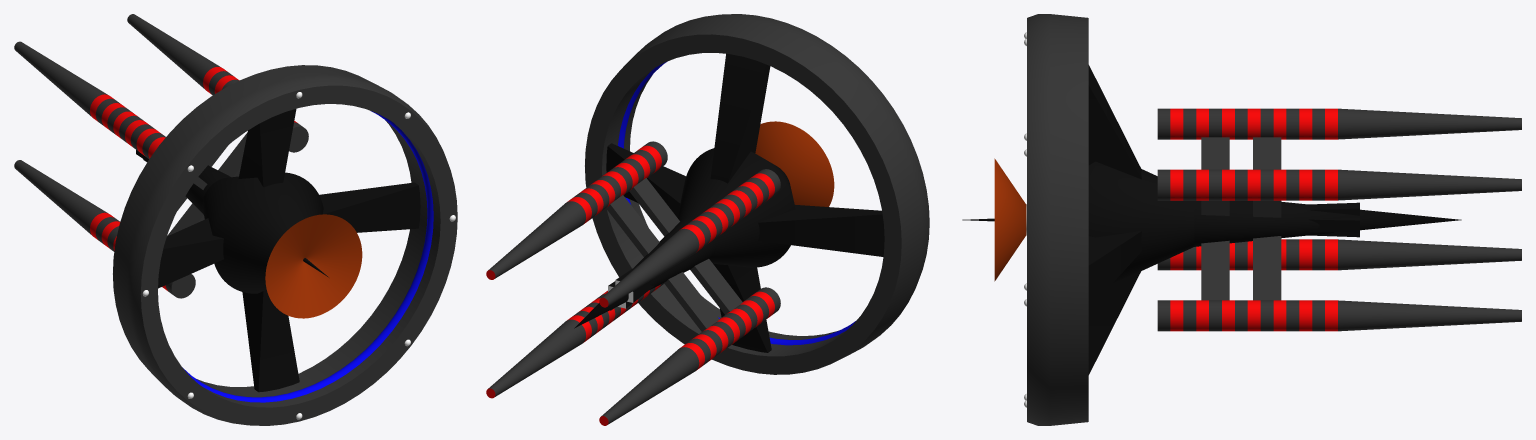
Rendered from NyProbe.FBX.
3 renders of one model, left to right at view 1: azimuth 30°, elevation 25°; view 2: azimuth 150°, elevation 25°; view 3: azimuth 270°, elevation 25°, orthographic. The views are drawn at different scales.
Visible parts, largest first — view 1: Engine, NyProbe, Radiators; view 2: Engine, NyProbe, Radiators; view 3: Radiators, Engine, NyProbe.
Part boxes in pixels (x1,y1,x2,y2): Engine: (113, 65, 457, 425); NyProbe: (136, 109, 420, 392); Radiators: (14, 14, 308, 298); Engine: (585, 14, 929, 374); NyProbe: (574, 53, 884, 352); Radiators: (486, 141, 780, 425); Radiators: (1157, 108, 1521, 331); Engine: (1024, 14, 1088, 425); NyProbe: (962, 65, 1461, 374).
Size of the model in its own units: 2 by 2 by 2.73.
